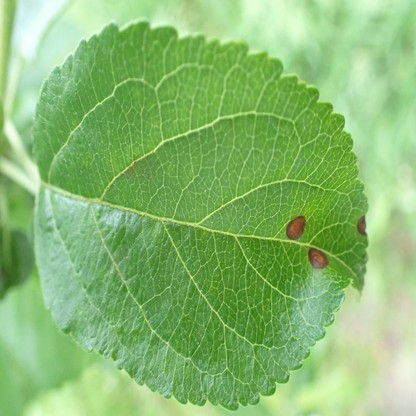frogeye_leaf_spot: (285, 215, 307, 239), (307, 248, 329, 269), (357, 216, 367, 236)
powdery_mildew: (294, 272, 328, 340)
